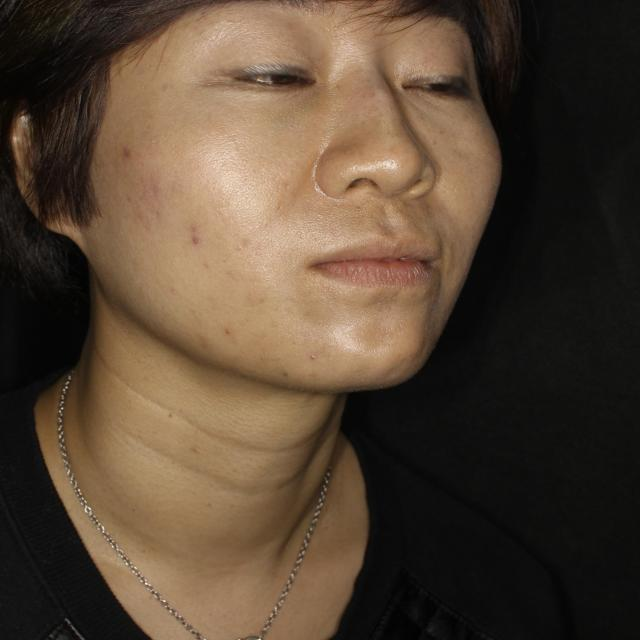comedone: (182, 218, 214, 249), (114, 140, 145, 168)
